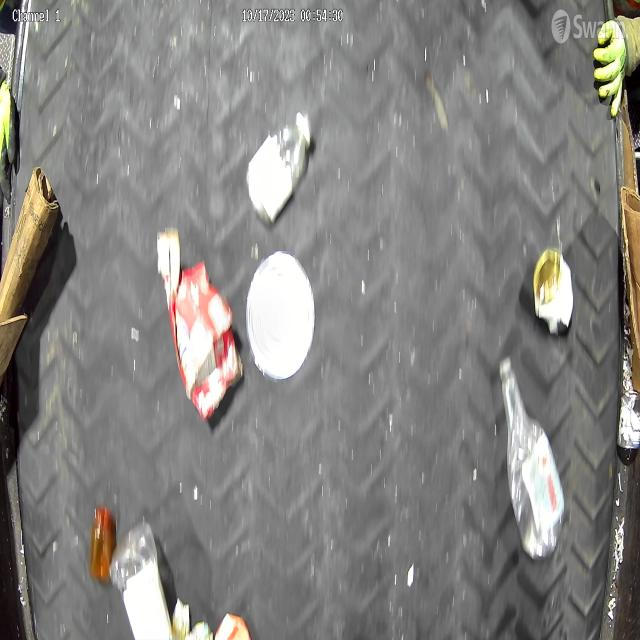can: (532, 246, 575, 335), (618, 390, 640, 450)
plastic_bottle: (499, 356, 566, 562), (248, 110, 315, 226)
